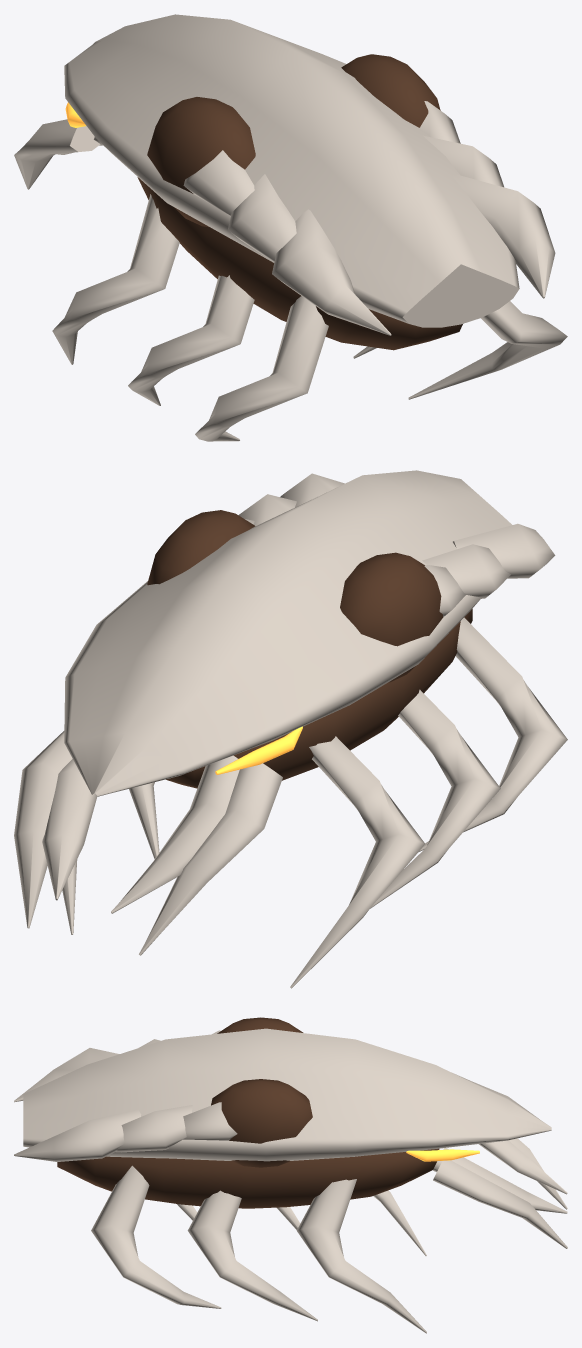
Rendered from flying_beetle.glb.
The picture shows the model from 3 angles, top to bottom: view 1: azimuth 30°, elevation 25°; view 2: azimuth 150°, elevation 25°; view 3: azimuth 270°, elevation 25°; orthographic projection. The views are drawn at different scales.
Parts seen in each view (by area): view 1: flying_beetle; view 2: flying_beetle; view 3: flying_beetle.
Part boxes in pixels (bbox=[...]): flying_beetle: bbox=[14, 14, 567, 441]; flying_beetle: bbox=[14, 470, 567, 988]; flying_beetle: bbox=[14, 1017, 567, 1333].
Size of the model in its own units: 0.8373 by 0.8362 by 1.58.
